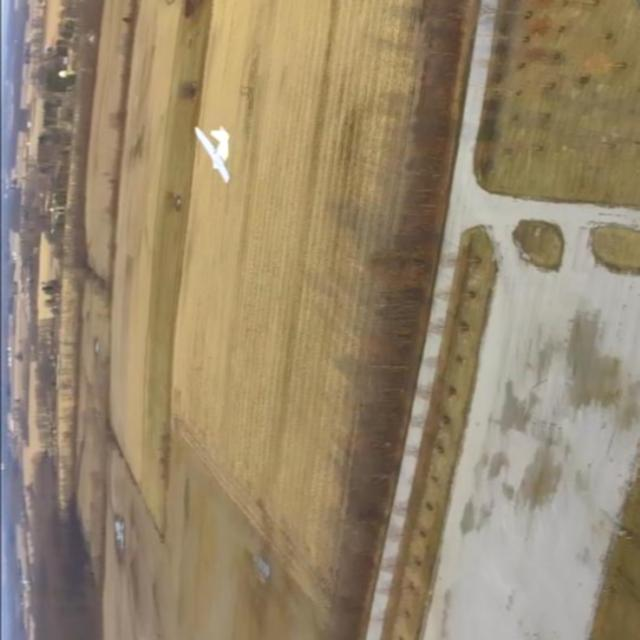plane: (192, 126, 230, 186)
